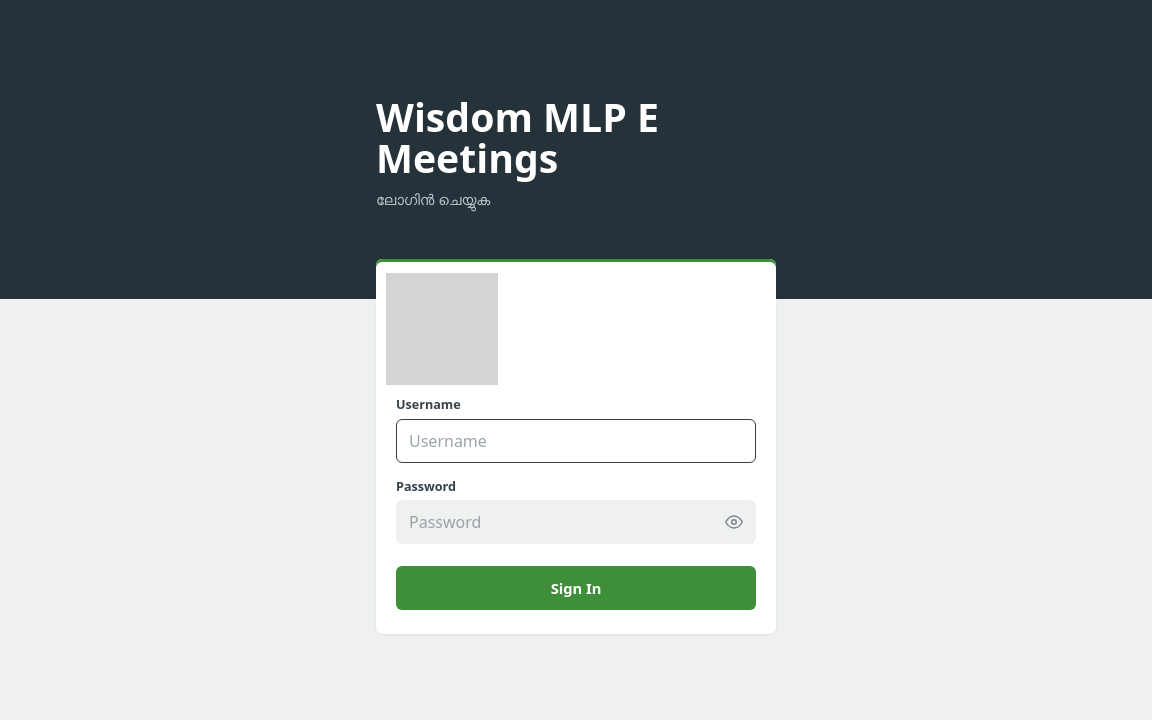
Test: Login › shows the server message on failure
Type "user1" into the field labelled "Username" at coordinates (576, 441), box [396, 419, 756, 463]
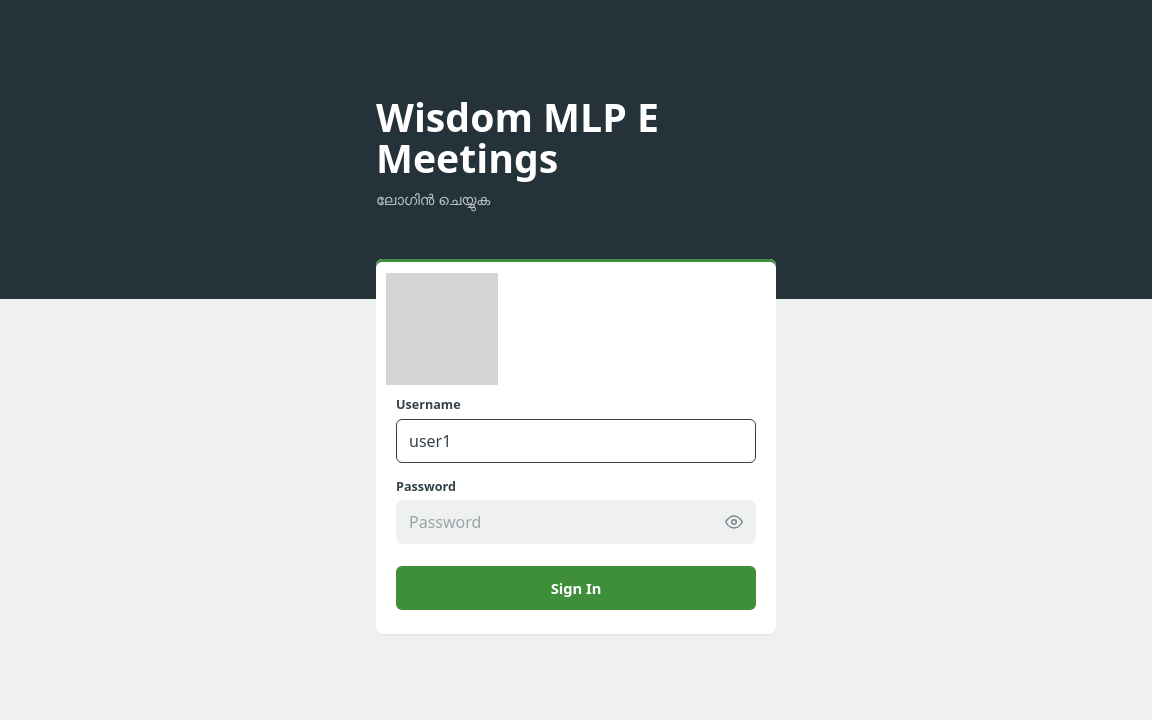
Type "wrong" into the password field labelled "Password" at coordinates (576, 522), box [396, 500, 756, 544]
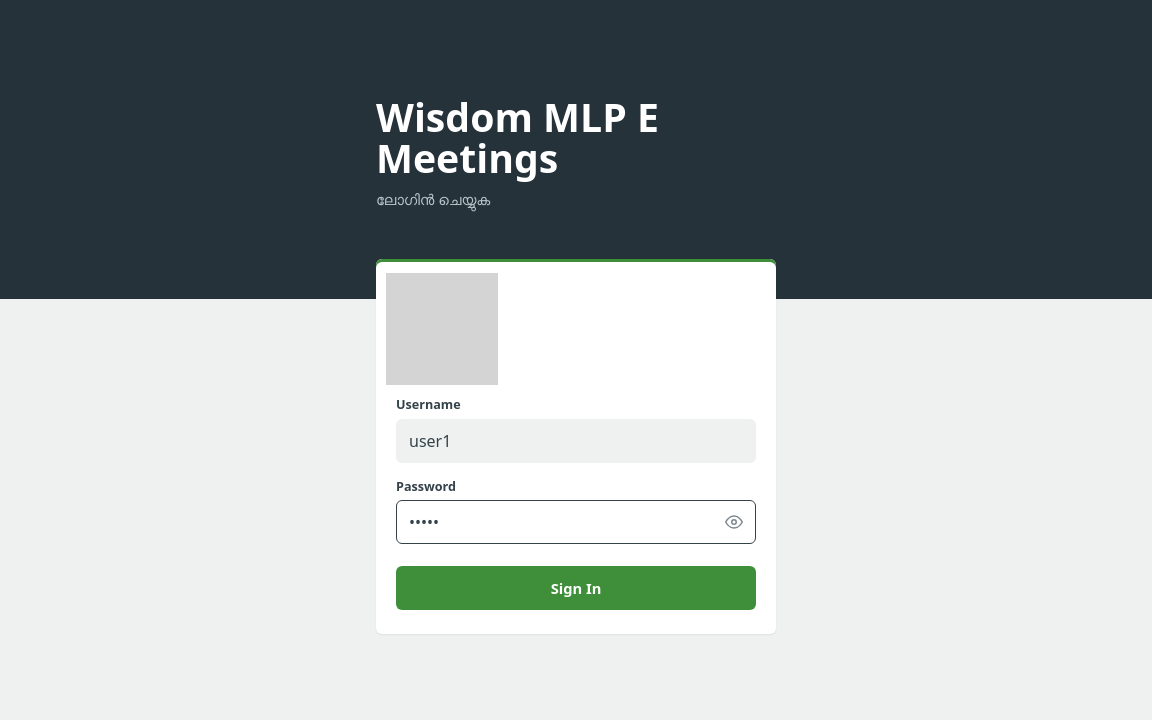
Click the button "Sign In" at coordinates (576, 588), box [396, 566, 756, 610]
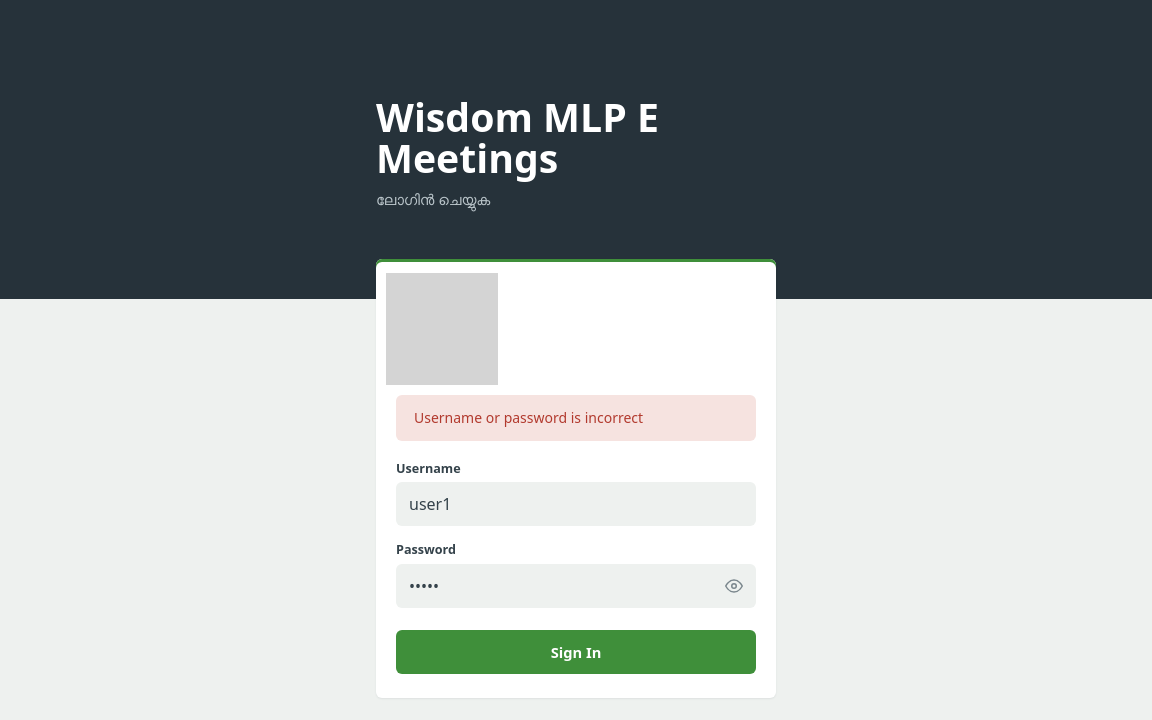
Expected: the text "Username or password is incorrect" is shown, [396, 395, 756, 441]
